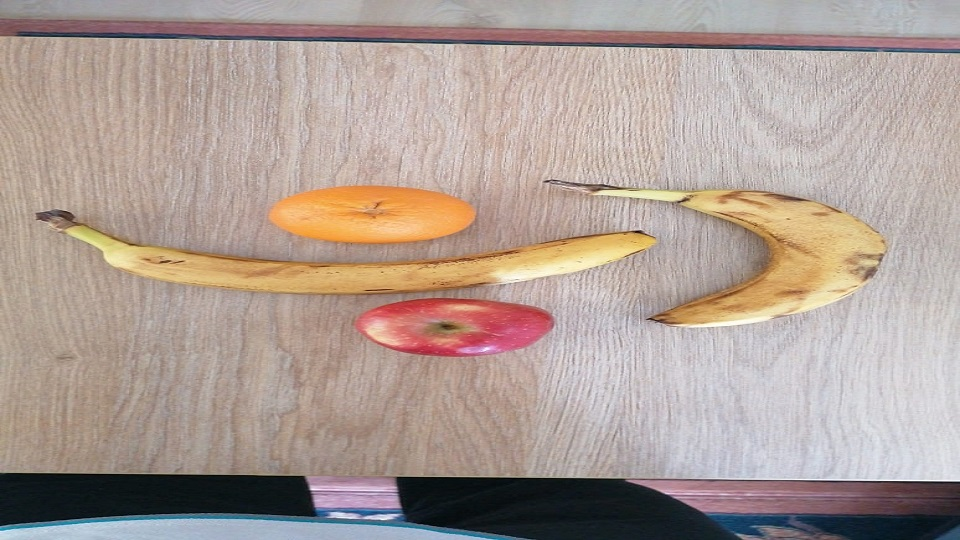elma: (353, 297, 555, 357)
muz: (95, 229, 656, 294), (659, 189, 887, 329)
portakal: (267, 185, 477, 243)
